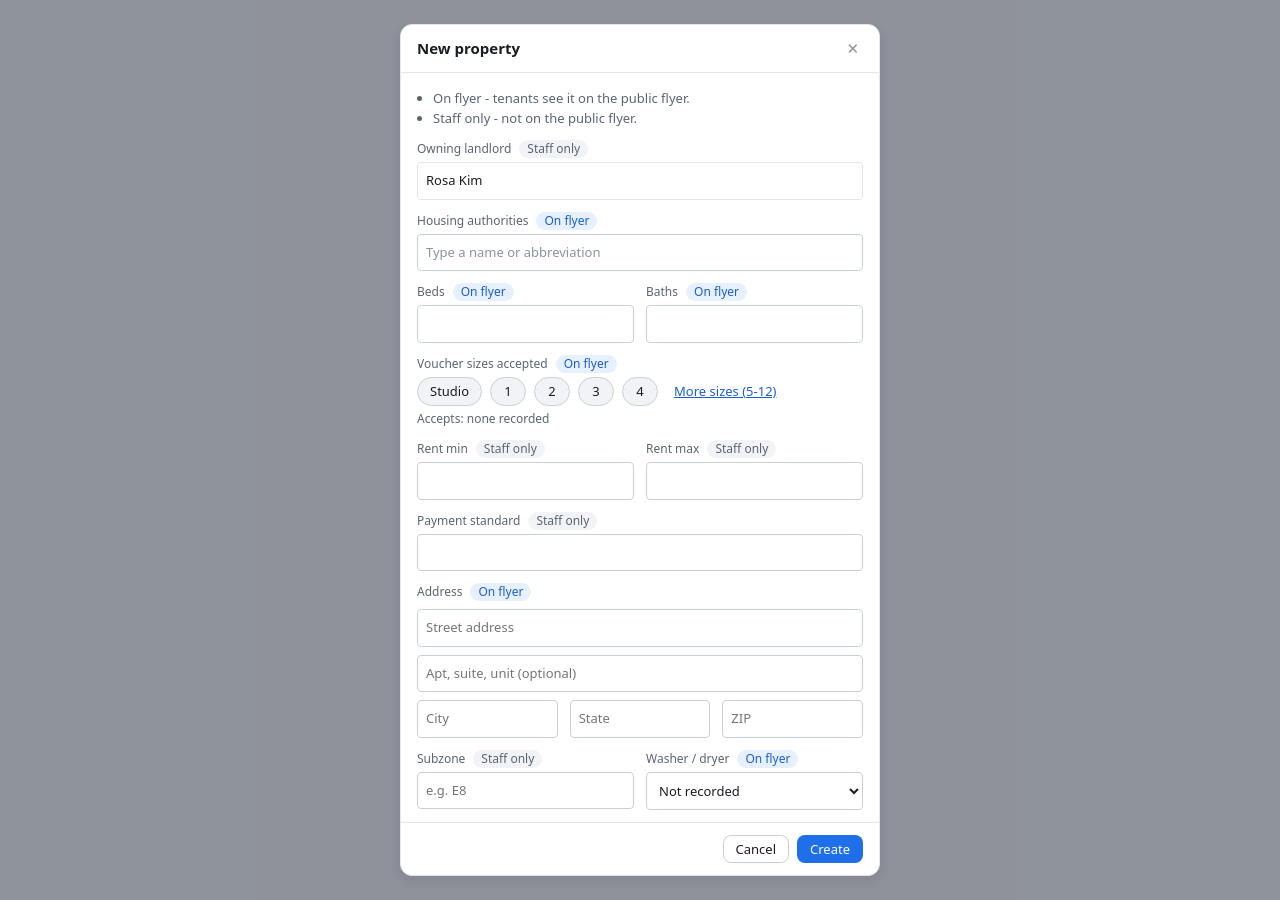
Test: UnitCreateForm › shows a refused housing authority under the picker, worded from the body
Expected: the dialog "New property" is shown, [400,24,880,876]
Expected: the button "Create" is enabled, [797,835,863,863]
Type "AHA" into the dropdown labelled "Housing authorities" at (640, 252), box [417,234,863,271]
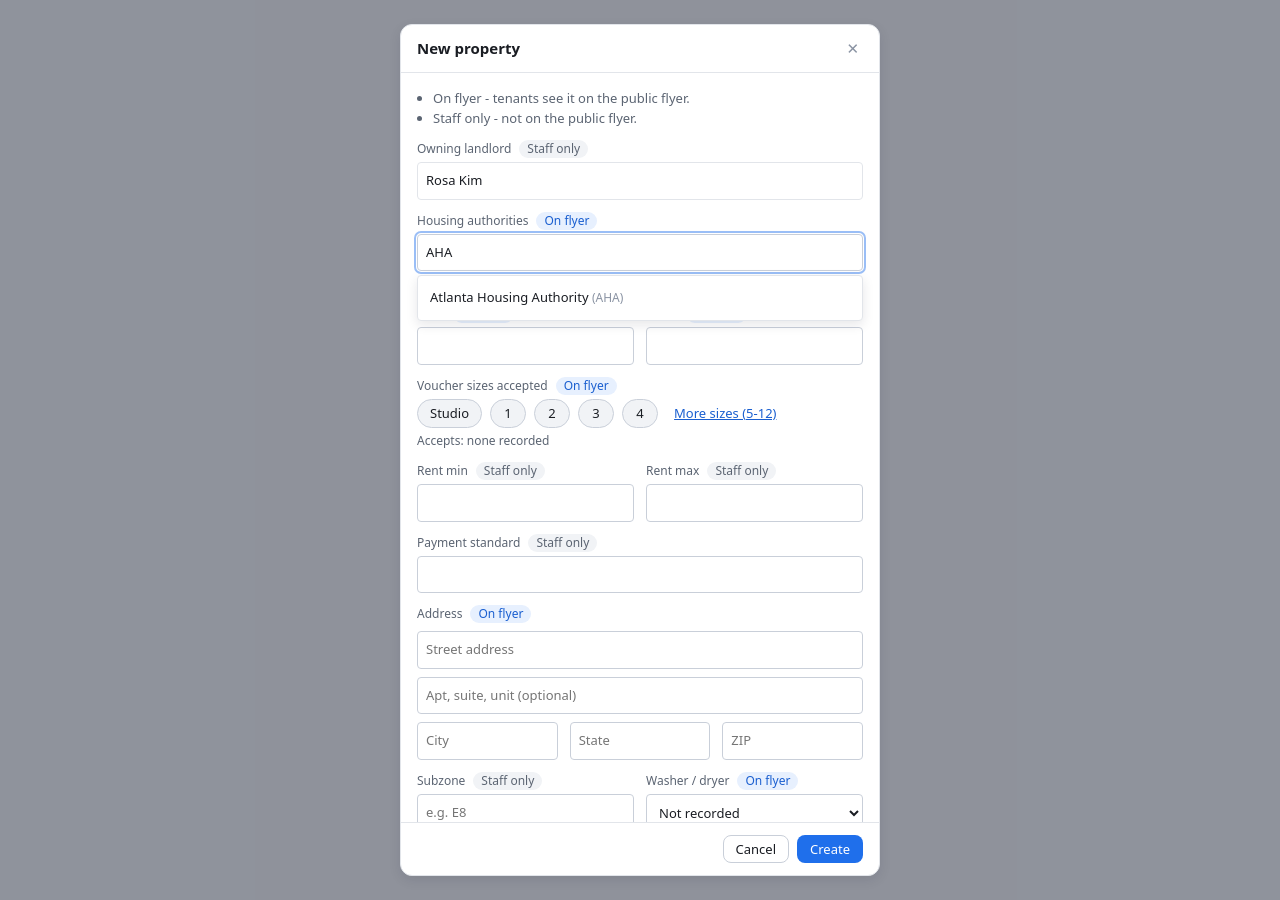
Click the option "Atlanta Housing Authority (AHA)" at (527, 297), box [430,288,623,306]
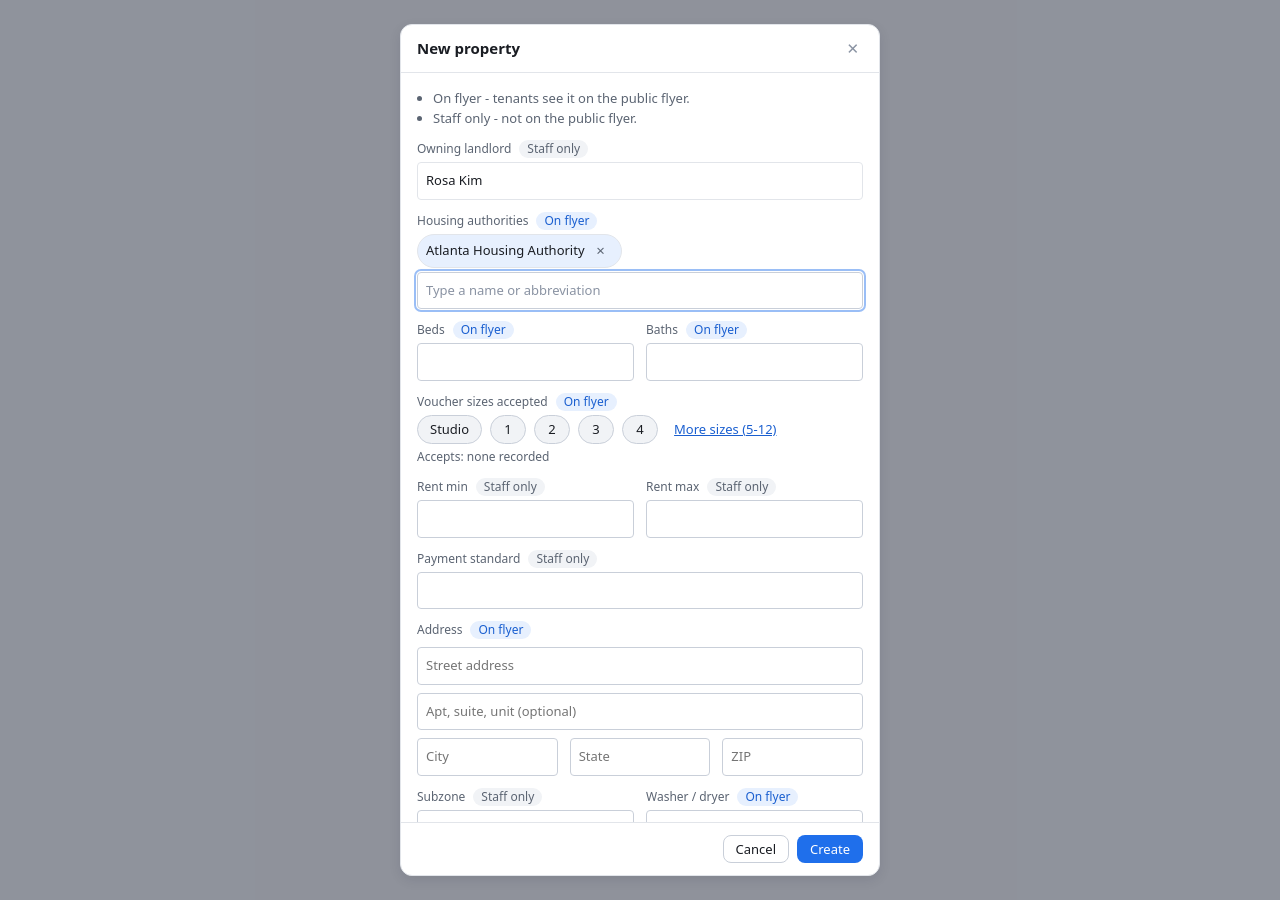
Click the button "Create" at (830, 849), box [797,835,863,863]
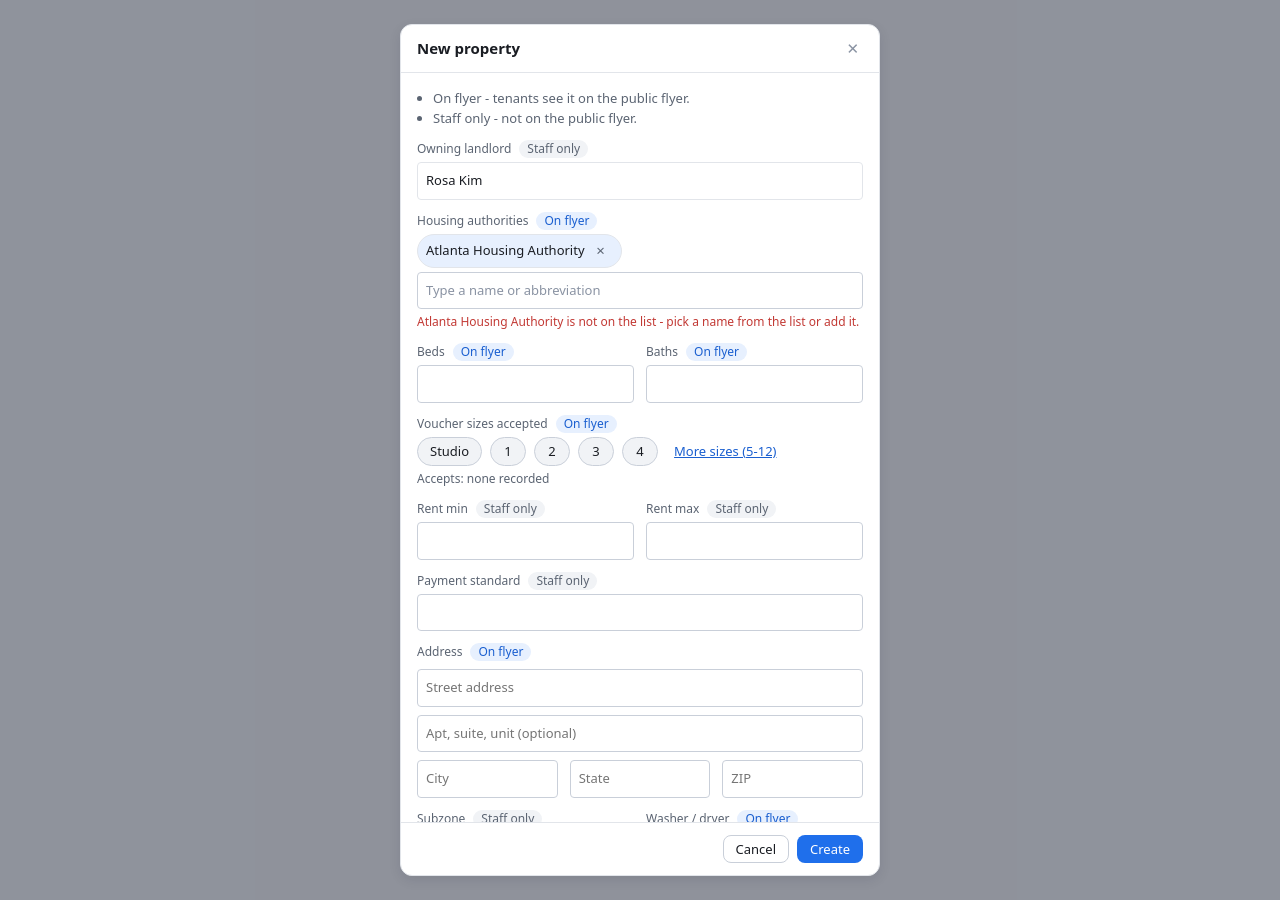
Expected: the message shows "Atlanta Housing Authority is not on the list - pick a name from the list or add it.", [417,313,859,330]
